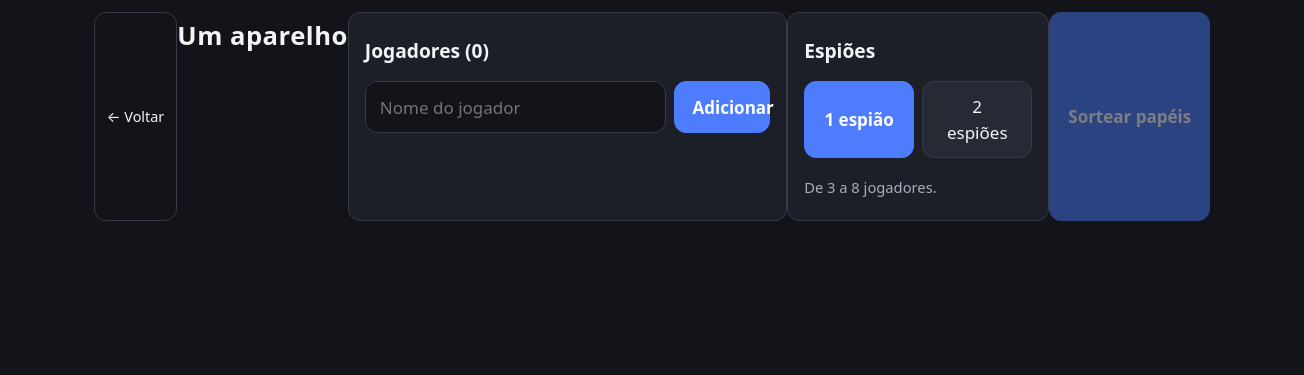
modo um aparelho › cadastra jogadores e bloqueia início com menos de 3
Type "Ana" into the field labelled "Nome do jogador" at coordinates (515, 107), box [365,81,666,133]
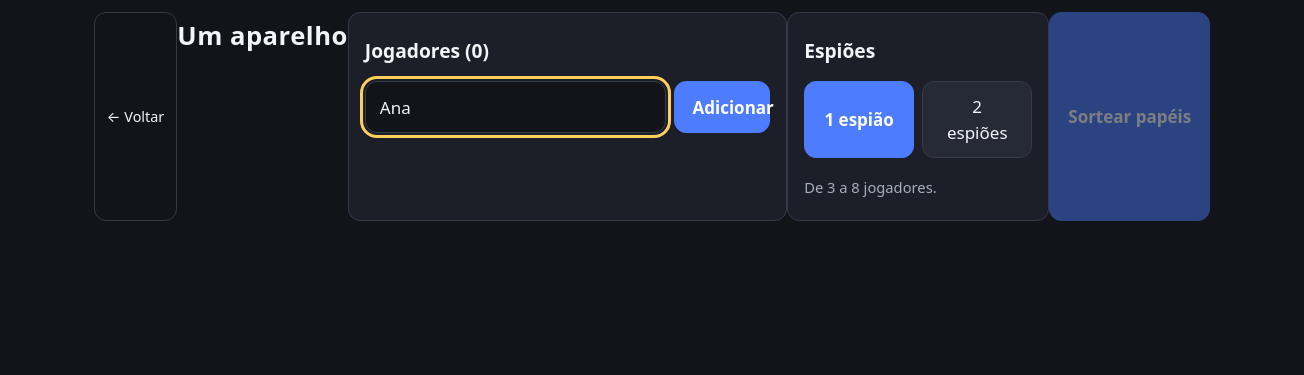
Click the button "Adicionar" at coordinates (722, 107), box [674,81,770,133]
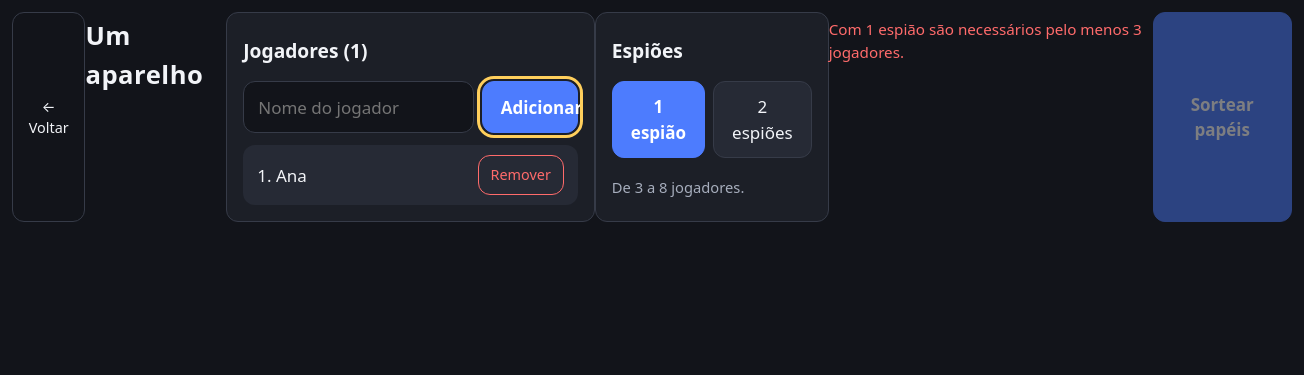
Type "Bia" into the field labelled "Nome do jogador" at coordinates (359, 107), box [243,81,474,133]
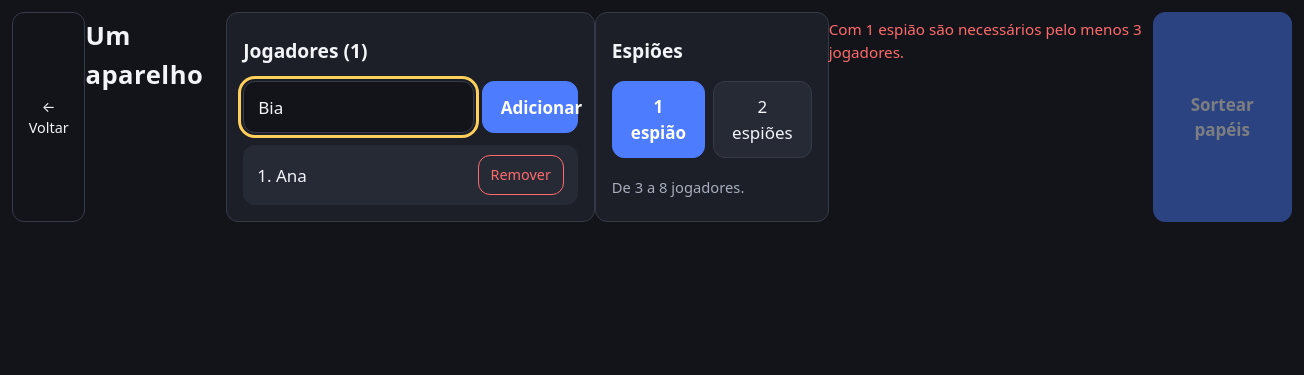
Click the button "Adicionar" at coordinates (530, 107), box [482,81,578,133]
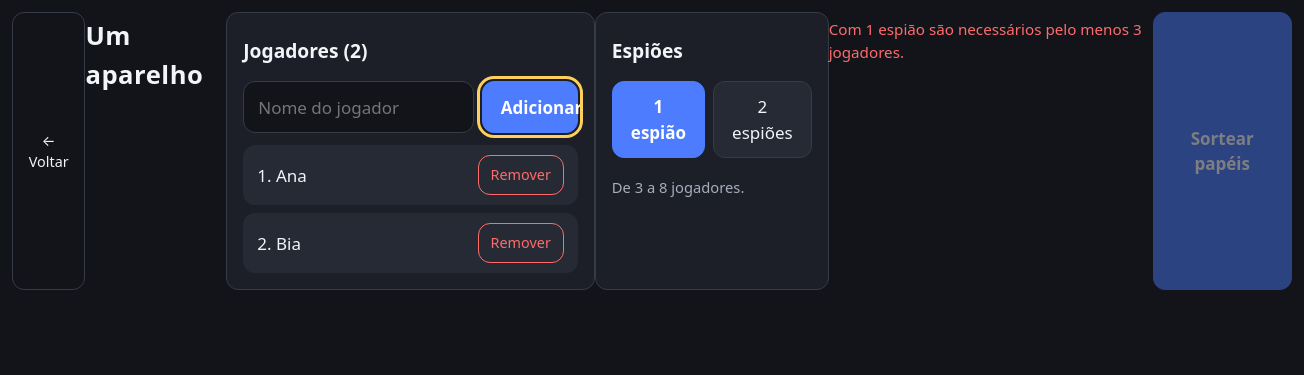
Expected: the button "Sortear papéis" is disabled, [1152,12,1292,290]
Type "Caio" into the field labelled "Nome do jogador" at coordinates (359, 107), box [243,81,474,133]
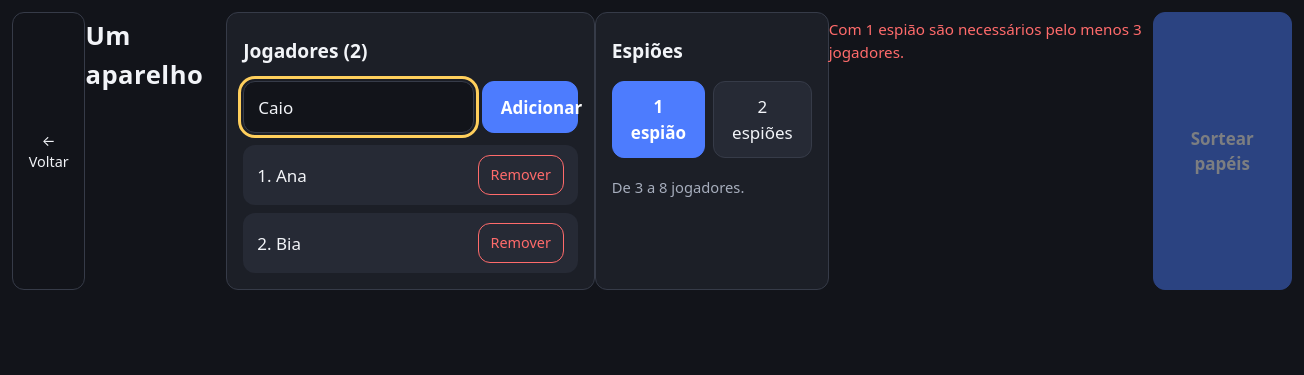
Click the button "Adicionar" at coordinates (530, 107), box [482,81,578,133]
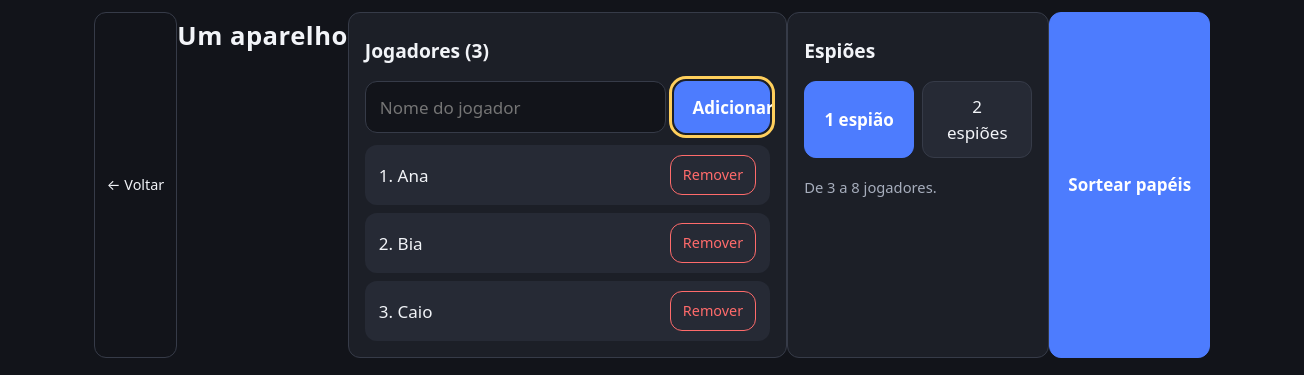
Expected: the button "Sortear papéis" is enabled, [1049,12,1210,358]
